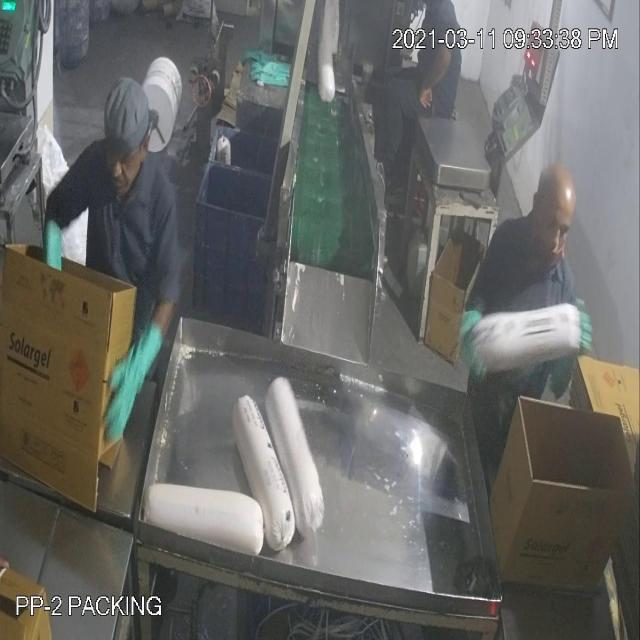No_Gloves: (42, 70, 433, 386)
